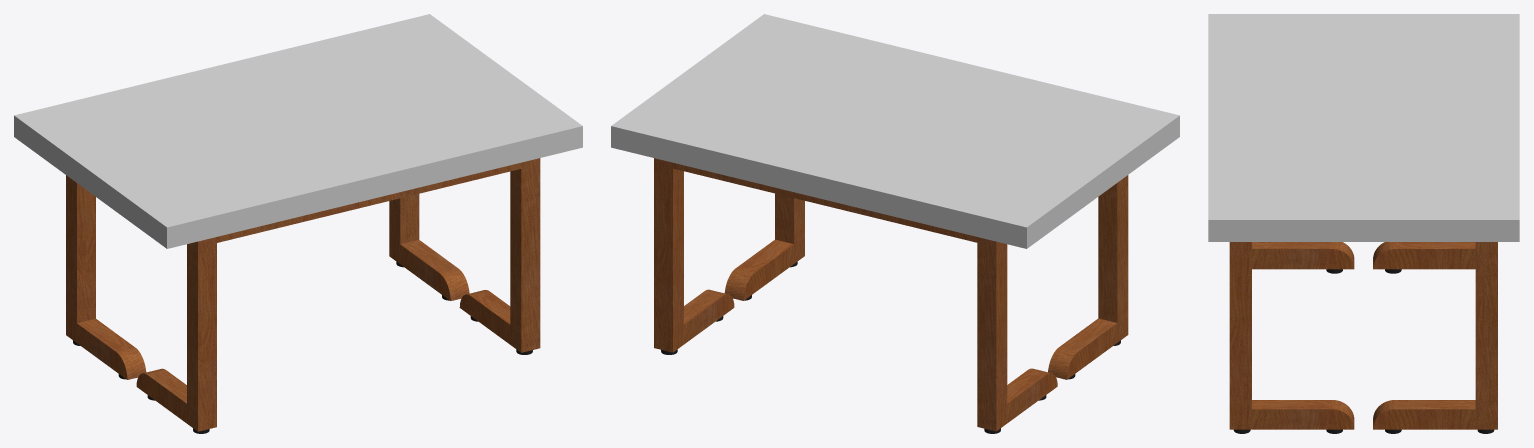
Rendered from table.fbx.
3 views of the same model, side by side, from view 1: azimuth 30°, elevation 25°; view 2: azimuth 150°, elevation 25°; view 3: azimuth 270°, elevation 25° (orthographic).
Parts seen in each view (by area): view 1: table; view 2: table; view 3: table.
Part boxes in pixels (x1,y1,x2,y2): table: (14,14,582,433); table: (611,14,1179,433); table: (1208,14,1519,433).
Size of the model in its own units: 547 by 286 by 349.
